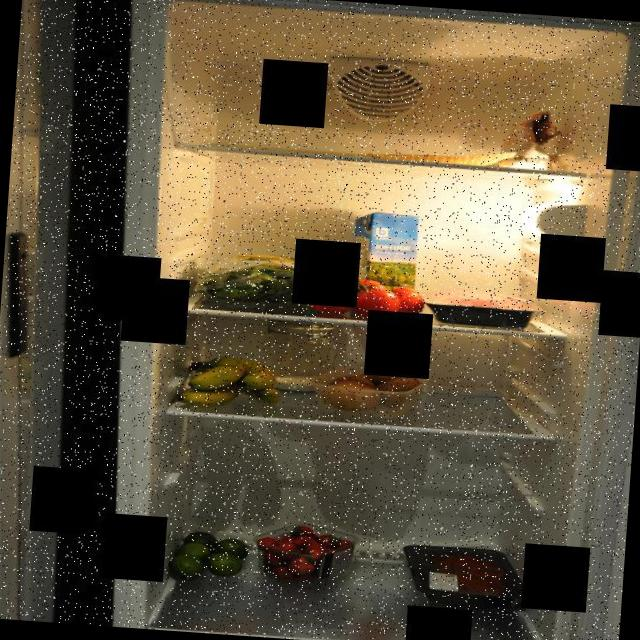Carne vacuno: (398, 542, 532, 612)
Leche: (346, 208, 422, 309)
Patata: (319, 363, 426, 420)
Plátano: (178, 352, 282, 413)
Tomate: (304, 274, 426, 326)
